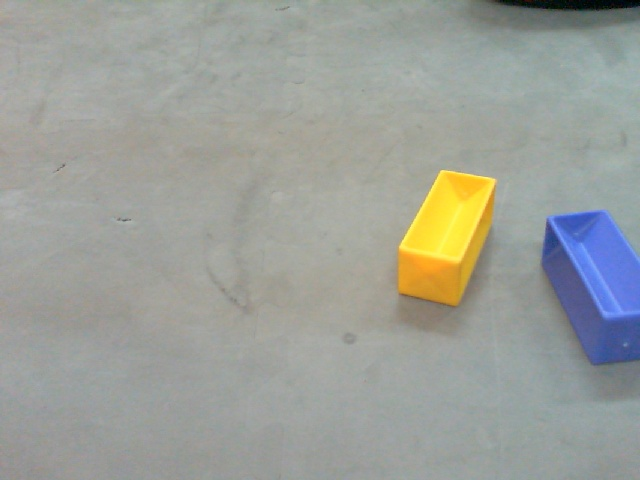BlueSample: (538, 204, 640, 371)
YellowSample: (392, 164, 501, 311)
